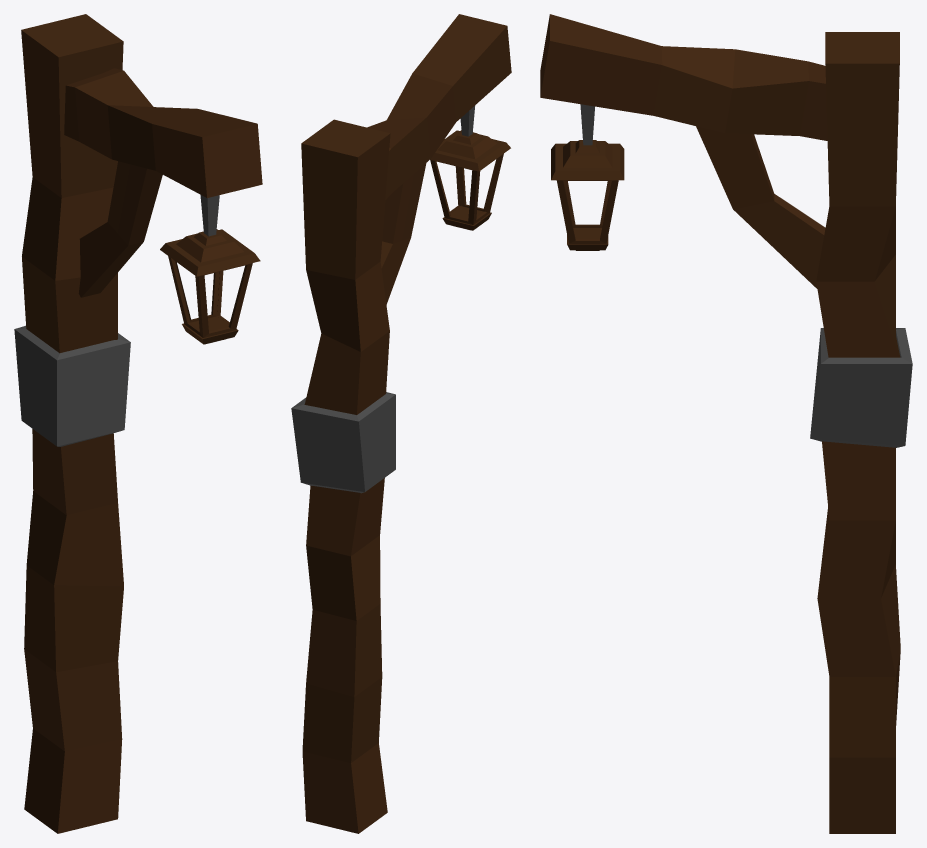
Rendered from Lampost2.fbx.
3 views of the same model, side by side, from view 1: azimuth 30°, elevation 25°; view 2: azimuth 150°, elevation 25°; view 3: azimuth 270°, elevation 25° (orthographic). The views are drawn at different scales.
Visible parts, largest first — view 1: Lampost2; view 2: Lampost2; view 3: Lampost2.
Part boxes in pixels (left/top/right/bottom): Lampost2: left=14, top=14, right=262, bottom=833; Lampost2: left=291, top=14, right=511, bottom=833; Lampost2: left=540, top=14, right=912, bottom=833.
Bounding box in the file's own units: 184 × 1906 × 812.
